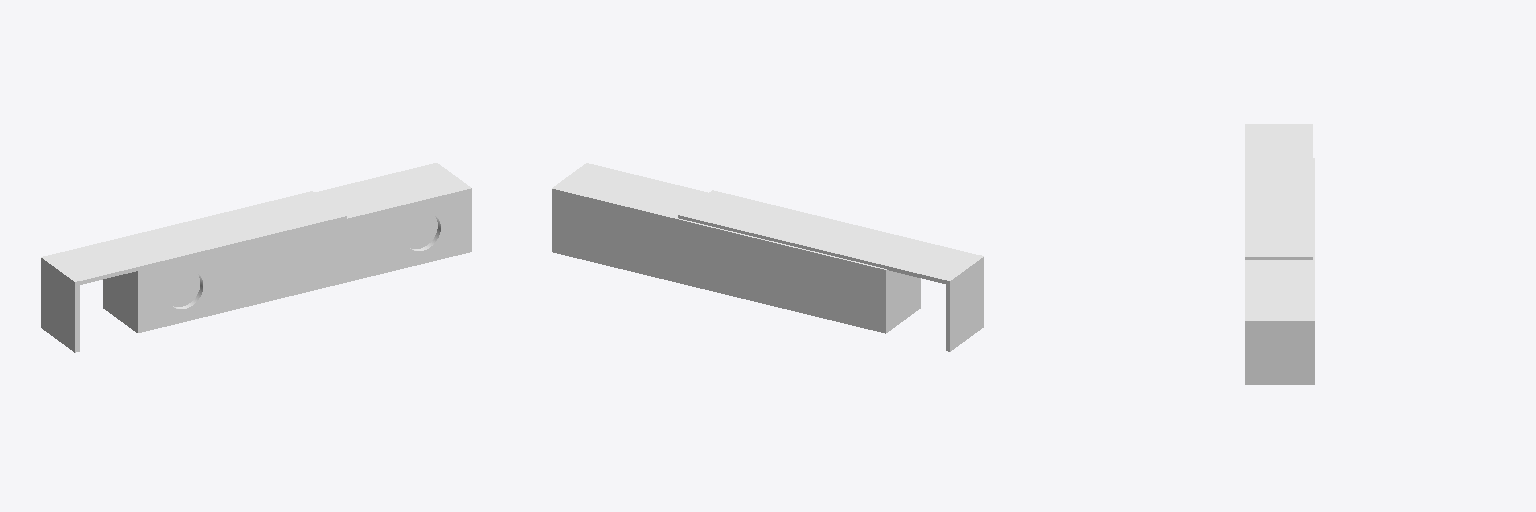
The model's file is Gimbalpart_pitch.obj.
3 renders of one model, left to right at view 1: azimuth 30°, elevation 25°; view 2: azimuth 150°, elevation 25°; view 3: azimuth 270°, elevation 25°, orthographic.
Visible parts, largest first — view 1: Object.3, Object.2, Object.1; view 2: Object.3, Object.2, Object.1; view 3: Object.2, Object.3.
Boxes of the visible parts, x1,y1,x2,y2 form: Object.3: [103, 163, 471, 332]; Object.2: [46, 191, 346, 284]; Object.1: [41, 256, 79, 352]; Object.3: [552, 163, 920, 333]; Object.2: [678, 190, 978, 283]; Object.1: [946, 255, 983, 351]; Object.2: [1245, 126, 1312, 259]; Object.3: [1245, 158, 1314, 384].
Size of the model in its own units: 203 by 34.44 by 31.25.